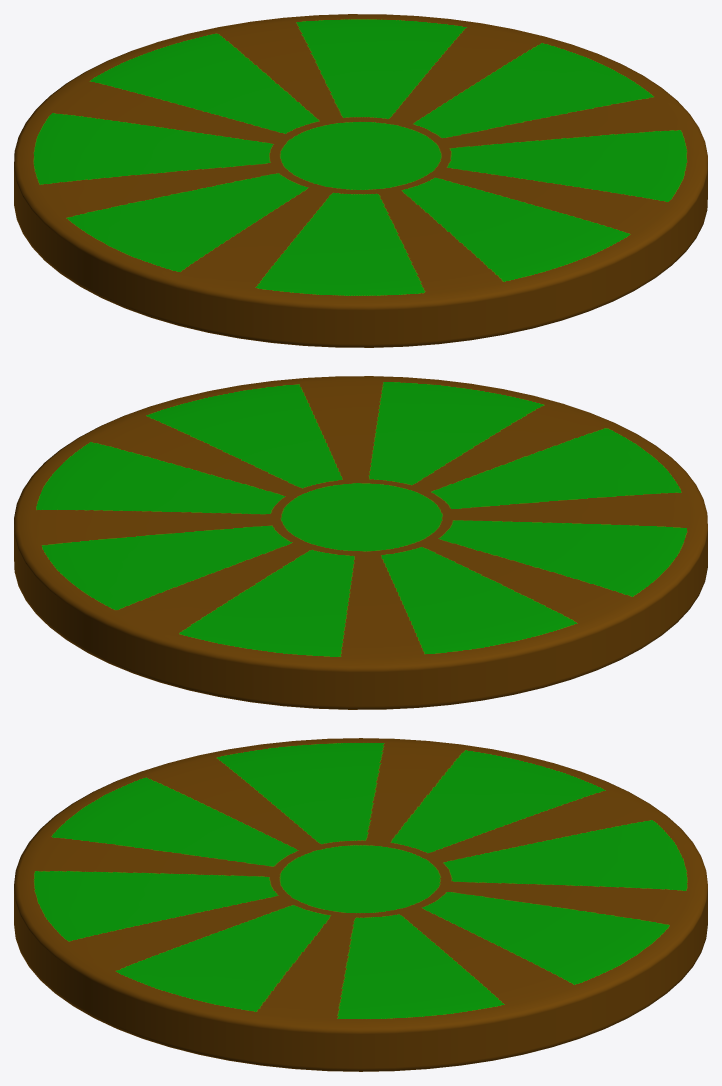
The model's file is BeginnerPuck.fbx.
3 views of the same model, one above another, from view 1: azimuth 30°, elevation 25°; view 2: azimuth 150°, elevation 25°; view 3: azimuth 270°, elevation 25° (orthographic).
Parts seen in each view (by area): view 1: BeginnerPuck; view 2: BeginnerPuck; view 3: BeginnerPuck.
Part boxes in pixels (left/top/right/bottom): BeginnerPuck: left=14, top=14, right=707, bottom=347; BeginnerPuck: left=14, top=376, right=707, bottom=709; BeginnerPuck: left=14, top=738, right=707, bottom=1071.
Size of the model in its own units: 1 by 0.08 by 1.
